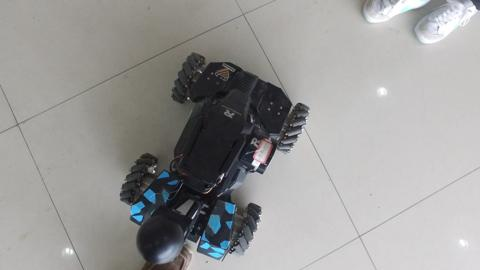chariot: (116, 47, 293, 243)
